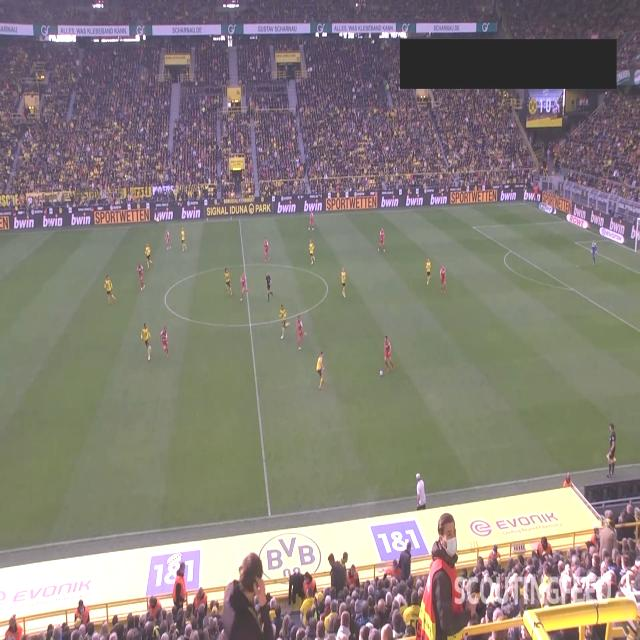ball: (378, 368, 384, 378)
f_player: (382, 333, 397, 374), (140, 321, 154, 364), (102, 272, 118, 307), (294, 314, 308, 352), (315, 348, 327, 392), (278, 302, 291, 341), (158, 324, 170, 360), (135, 259, 147, 293), (222, 266, 234, 298), (338, 264, 348, 300), (239, 271, 250, 303), (438, 264, 448, 296), (376, 226, 387, 254), (144, 241, 154, 271), (307, 236, 317, 266), (162, 225, 172, 253), (262, 236, 272, 264), (178, 226, 188, 253), (424, 256, 432, 288), (590, 237, 598, 267), (307, 208, 315, 234)
umpire: (264, 270, 274, 304)
